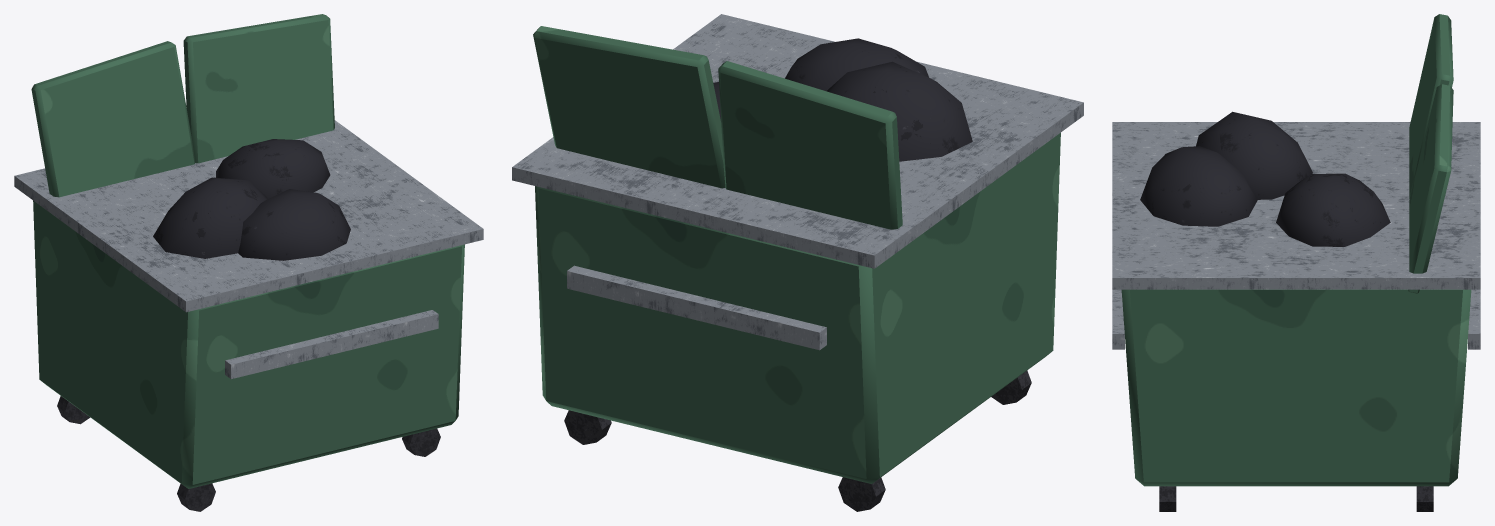
The model's file is dumpster.glb.
3 renders of one model, left to right at view 1: azimuth 30°, elevation 25°; view 2: azimuth 150°, elevation 25°; view 3: azimuth 270°, elevation 25°, orthographic. The views are drawn at different scales.
Parts seen in each view (by area): view 1: Dumpster; view 2: Dumpster; view 3: Dumpster.
Part boxes in pixels (x1,y1,x2,y2): Dumpster: [14, 14, 483, 511]; Dumpster: [512, 14, 1083, 511]; Dumpster: [1112, 14, 1480, 511].
Size of the model in its own units: 1.72 by 1.92 by 1.72.
4 materials, 4 textured.
